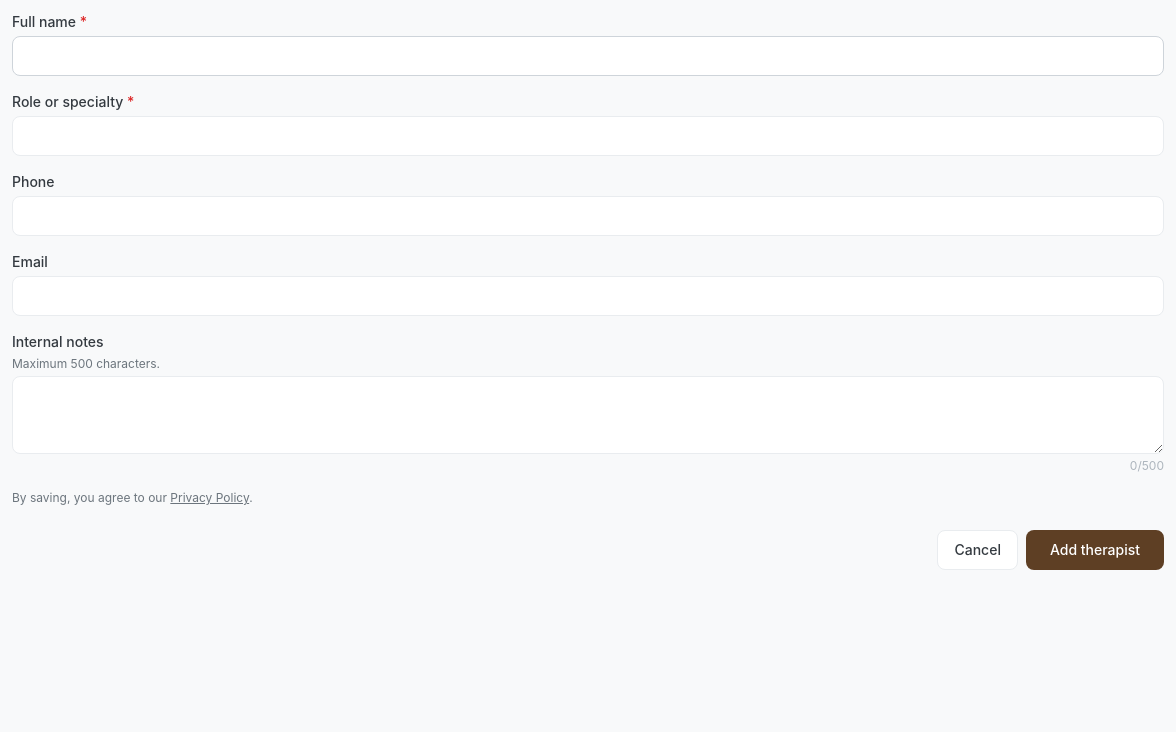
Test: TherapistForm › validation — empty role › shows role required error on submit
Type "Ana" into the field labelled "Full name *".
click(588, 56); type("Ana")  # box 12,36 -> 1164,76
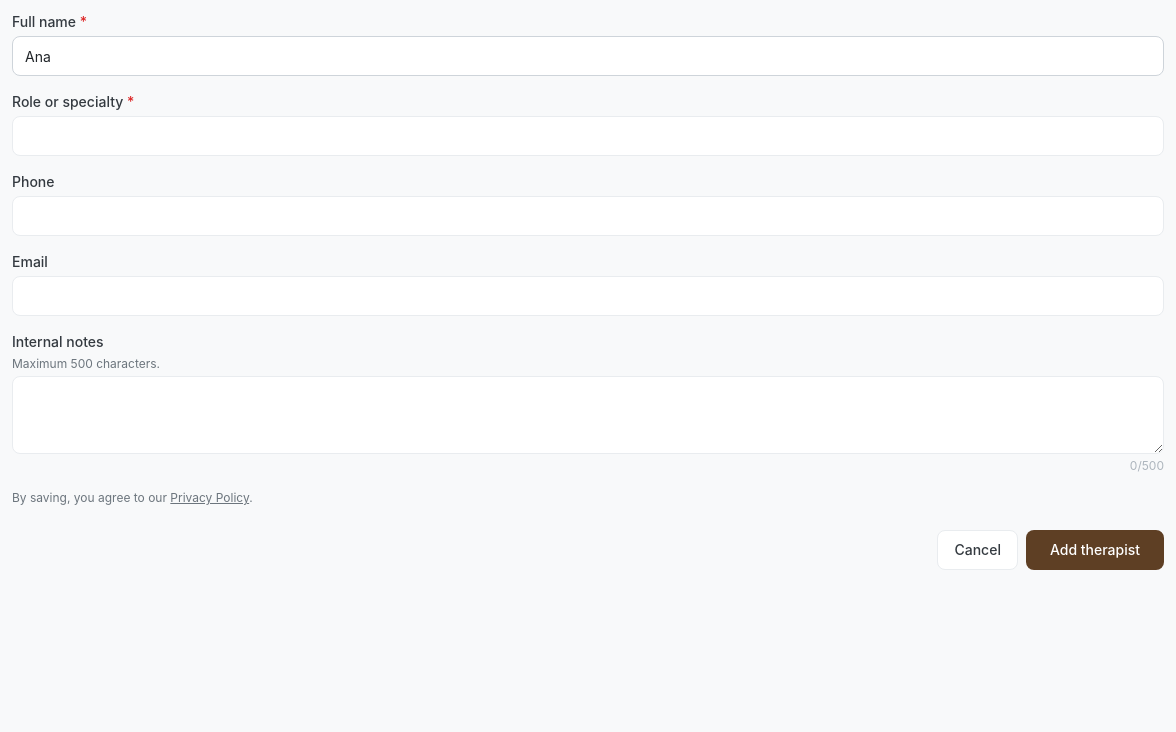
Click the button "Add therapist".
click(1095, 550)  # box 1026,530 -> 1164,570
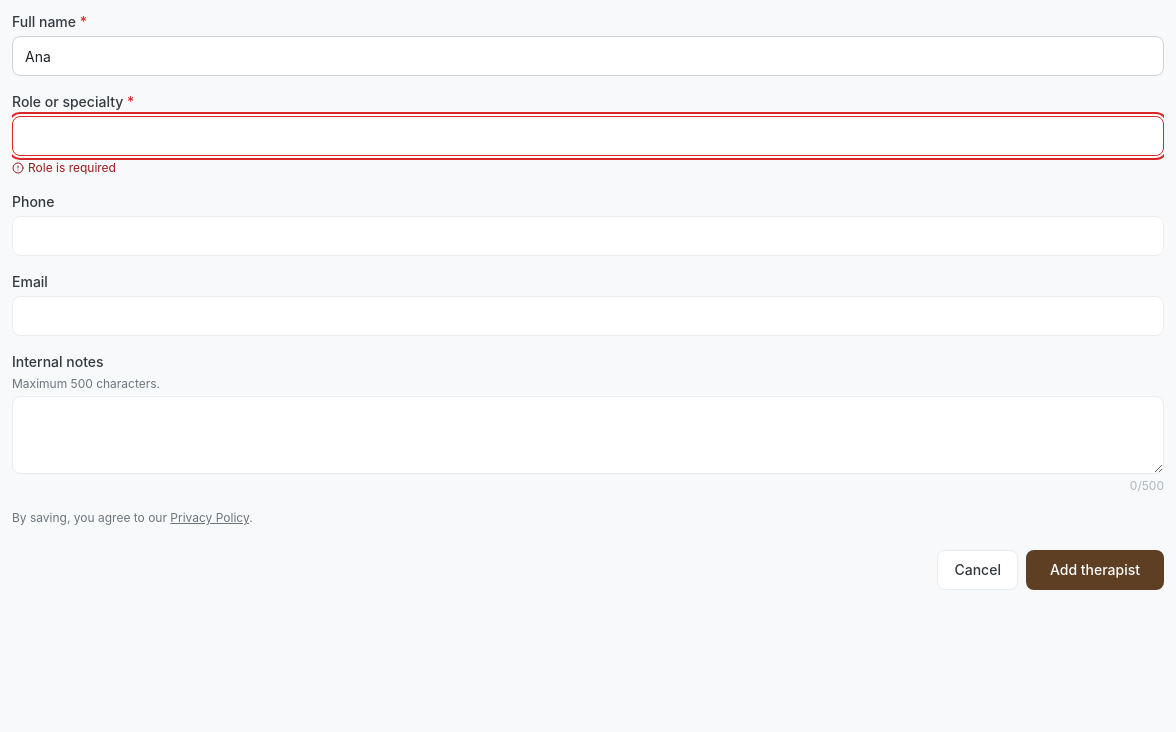
Check: the text "Role is required" is shown, box 12,160 -> 116,175
